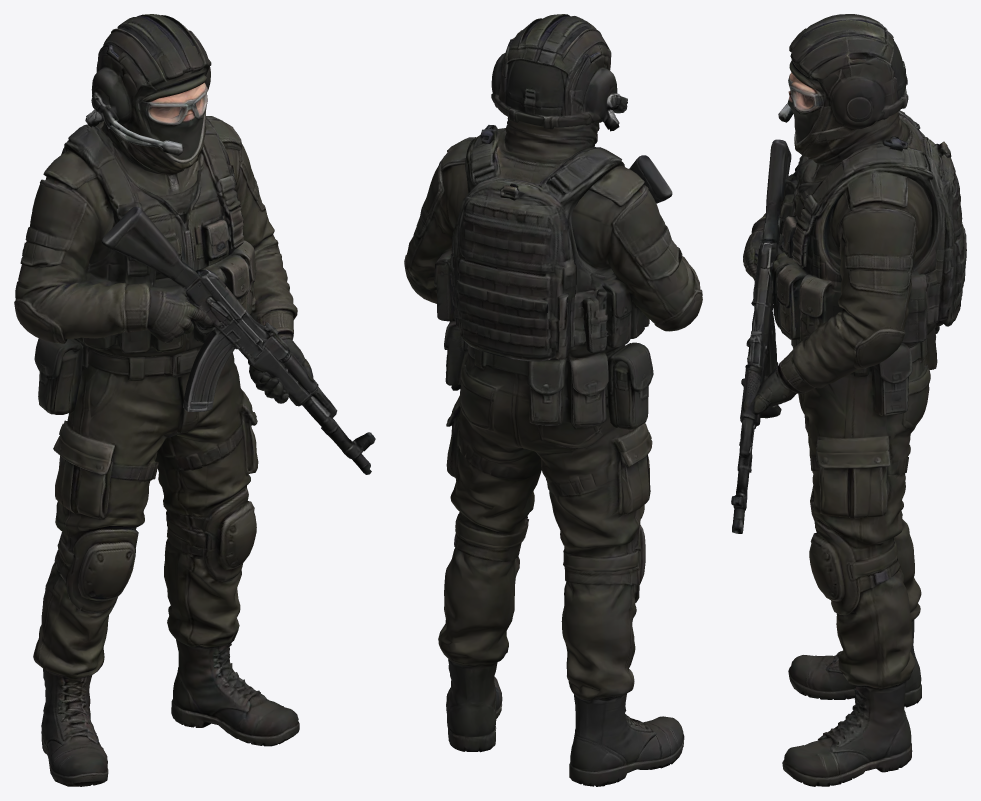
Rendered from btr-driver.glb.
The picture shows the model from 3 angles, left to right: view 1: azimuth 30°, elevation 25°; view 2: azimuth 150°, elevation 25°; view 3: azimuth 270°, elevation 25°; orthographic projection. The views are drawn at different scales.
Visible parts, largest first — view 1: tripo_node_f23f2fd1-90fe-4ffc-94df-98cc3053190e; view 2: tripo_node_f23f2fd1-90fe-4ffc-94df-98cc3053190e; view 3: tripo_node_f23f2fd1-90fe-4ffc-94df-98cc3053190e.
Part boxes in pixels (x1=…): tripo_node_f23f2fd1-90fe-4ffc-94df-98cc3053190e: x1=14, y1=14, x2=375, y2=786; tripo_node_f23f2fd1-90fe-4ffc-94df-98cc3053190e: x1=404, y1=14, x2=702, y2=786; tripo_node_f23f2fd1-90fe-4ffc-94df-98cc3053190e: x1=731, y1=14, x2=966, y2=786.
Bounding box in the file's own units: 0.4243 × 0.9801 × 0.2934.
1 material, 1 textured.
